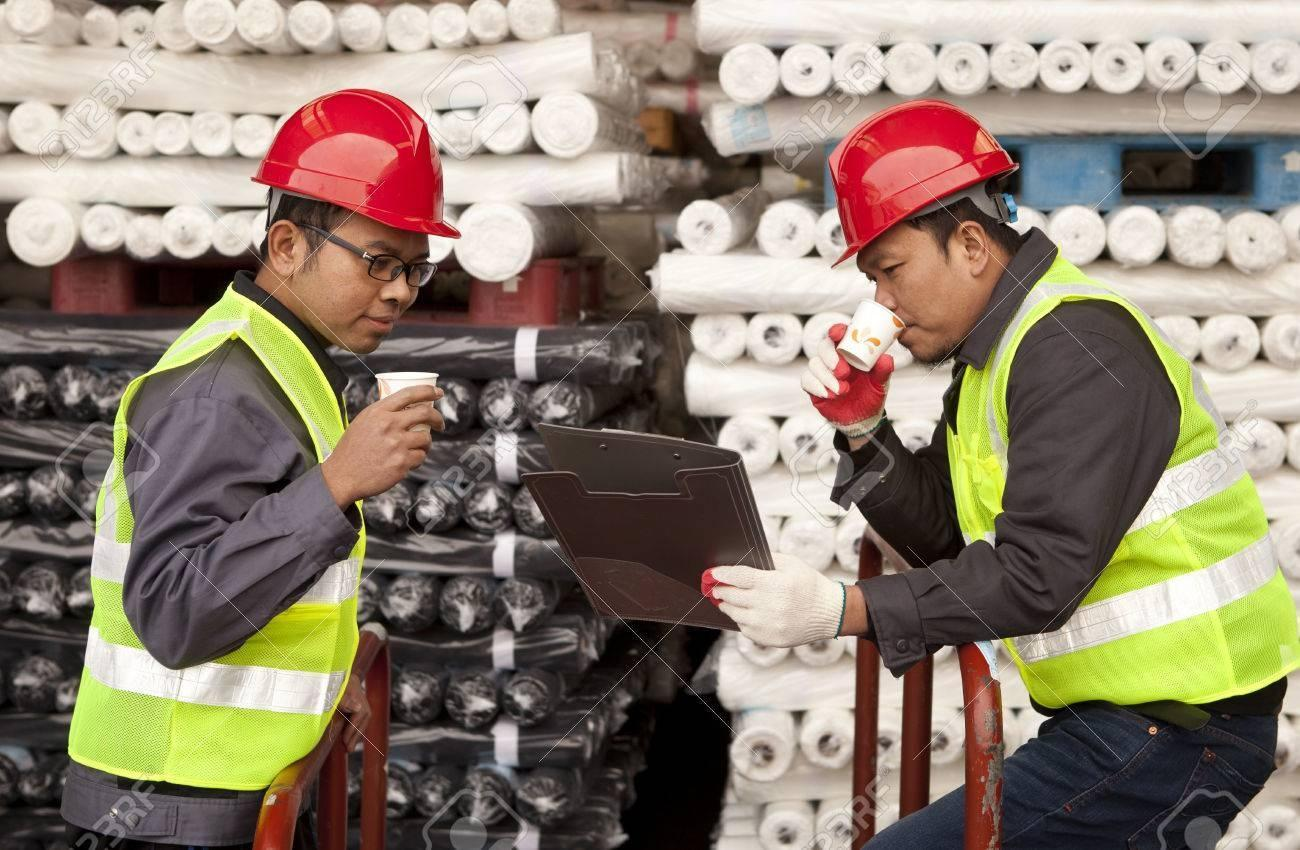helmet: (251, 82, 472, 252), (826, 104, 1029, 282)
person: (818, 107, 1299, 850), (68, 87, 471, 847)
vest: (958, 284, 1300, 710), (88, 289, 361, 807)
